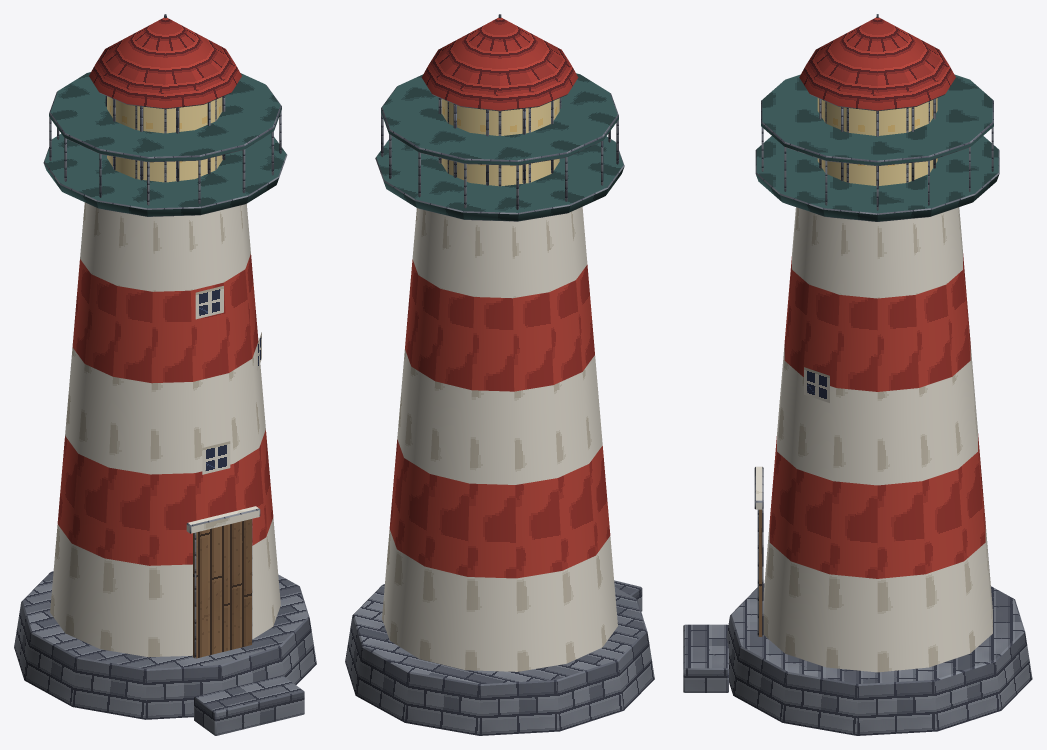
Rendered from lighthouse_0.glb.
3 renders of one model, left to right at view 1: azimuth 30°, elevation 25°; view 2: azimuth 150°, elevation 25°; view 3: azimuth 270°, elevation 25°, orthographic. The views are drawn at different scales.
Visible parts, largest first — view 1: lighthouse_1; view 2: lighthouse_1; view 3: lighthouse_1.
Part boxes in pixels (box(x1,y1,x2,y2)): lighthouse_1: box(14, 14, 316, 735); lighthouse_1: box(345, 14, 654, 735); lighthouse_1: box(683, 14, 1032, 735).
Size of the model in its own units: 4.09 by 9.55 by 4.61.
Materials: 10 (10 with a texture image).
